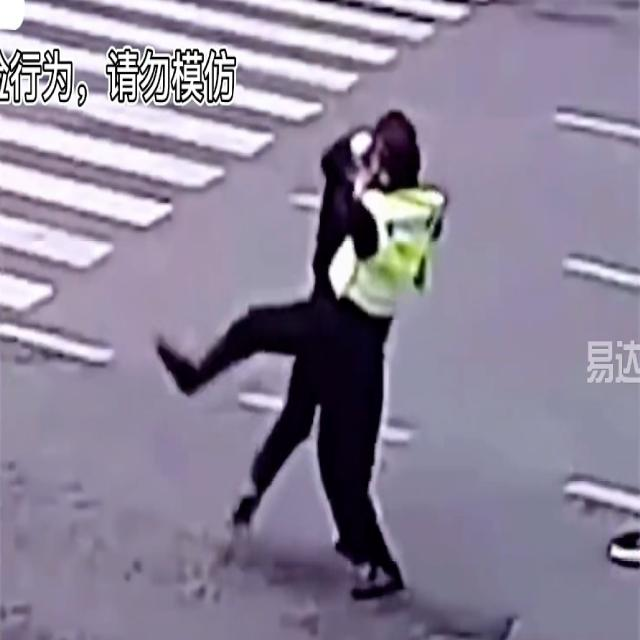fight: (306, 102, 441, 361)
